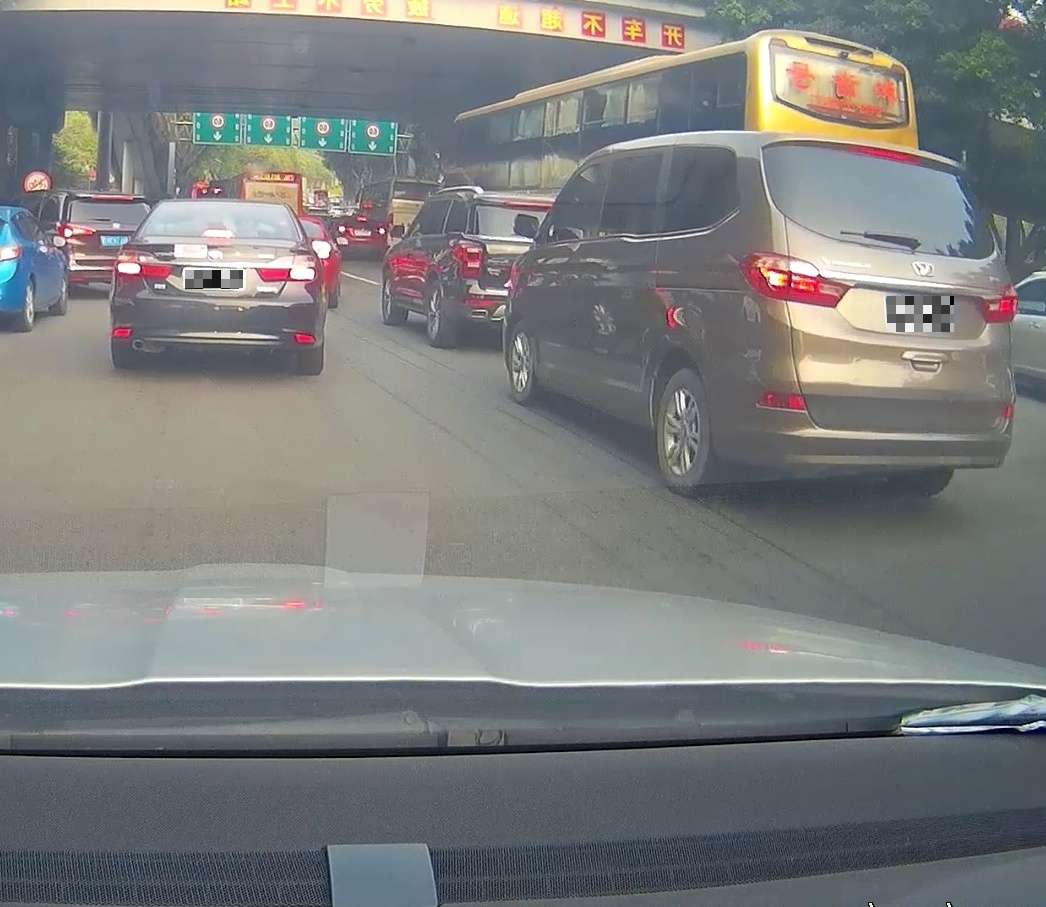L_light: (737, 249, 855, 308), (114, 250, 174, 277)
R_light: (255, 254, 317, 282), (975, 285, 1018, 323)
T_light: (856, 143, 916, 162), (203, 228, 235, 238)
day-brake: (735, 131, 1019, 496), (109, 198, 326, 375)
plate_1: (185, 270, 243, 289)
plate_2: (887, 296, 954, 332)
